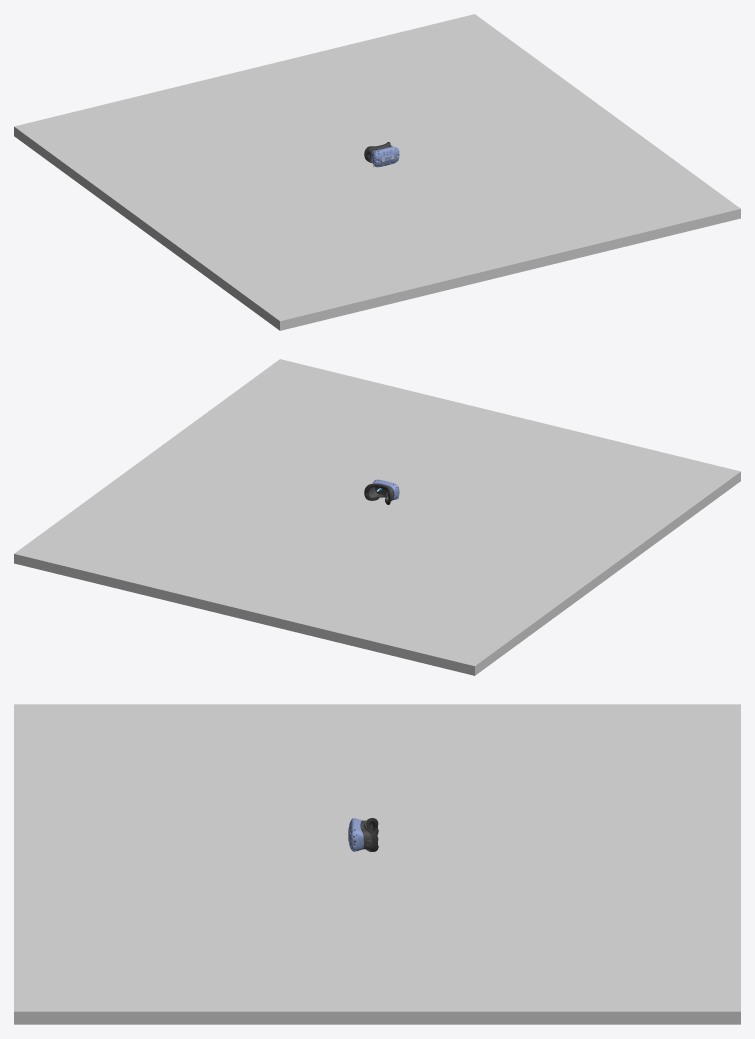
File: Fig_EyeReliefinHMD.glb
The picture shows the model from 3 angles, top to bottom: view 1: azimuth 30°, elevation 25°; view 2: azimuth 150°, elevation 25°; view 3: azimuth 270°, elevation 25°; orthographic projection. The views are drawn at different scales.
Visible parts, largest first — view 1: floor; view 2: floor; view 3: floor.
Boxes of the visible parts, <box> form: floor: <box>14,14,740,330</box>; floor: <box>14,359,740,675</box>; floor: <box>14,704,740,1024</box>.
Size of the model in its own units: 100 by 7.19 by 100.
Materials: 12 (1 with a texture image).
